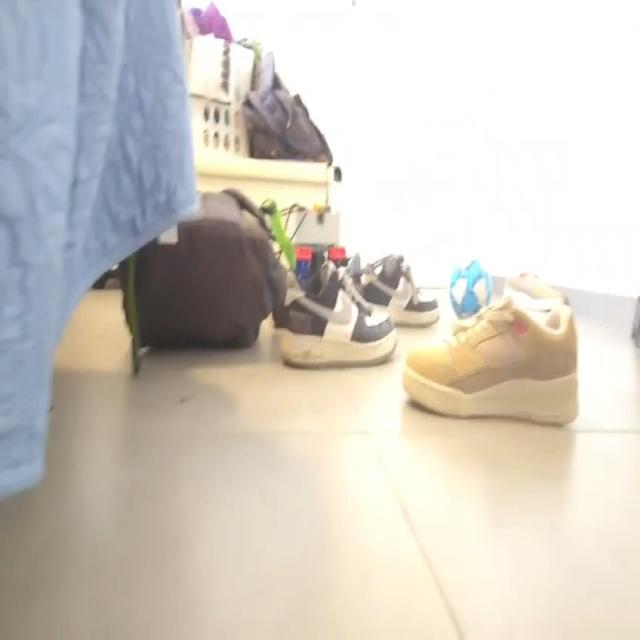Robot: (282, 203, 350, 290)
